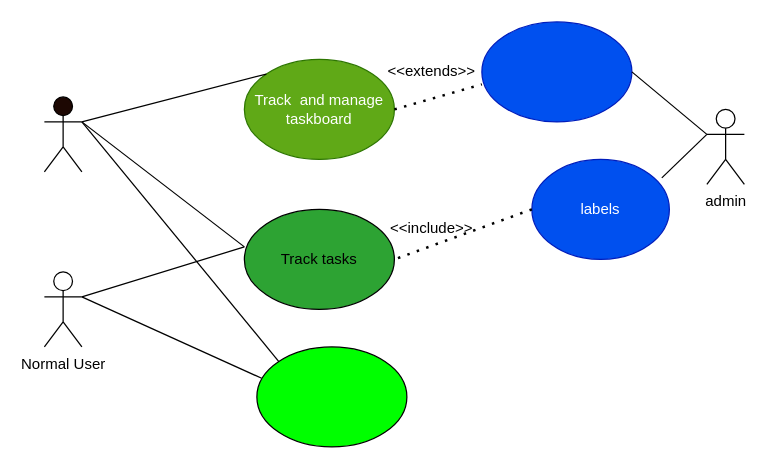
This 768x469 diagram has some shape labels left out. Here are the shapes that lost their labels. From the top down, the box of each, then its label:
(481, 21, 632, 122): tasks
(43, 96, 82, 172): Supervisor
(256, 346, 407, 447): Track label
